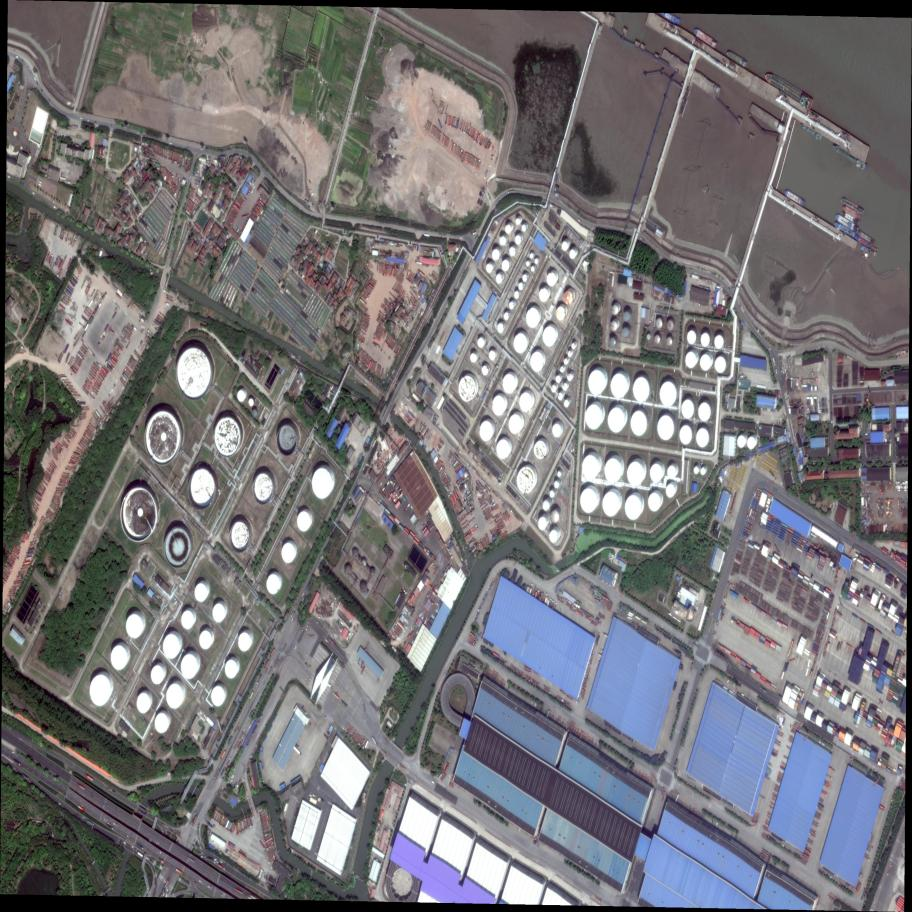large-vehicle: (237, 851, 248, 859), (187, 856, 196, 864), (264, 659, 270, 670), (332, 691, 340, 699), (329, 639, 337, 647), (235, 888, 244, 895), (175, 869, 184, 876), (220, 767, 226, 777), (248, 691, 254, 701), (220, 750, 226, 760), (227, 736, 233, 746), (228, 841, 236, 848), (237, 740, 243, 749), (270, 647, 275, 657), (192, 815, 197, 825), (227, 844, 234, 850), (206, 858, 215, 862)
ship: (761, 70, 816, 110), (830, 142, 869, 171), (691, 26, 721, 51), (724, 49, 750, 69), (839, 197, 866, 216), (782, 188, 807, 208), (832, 220, 858, 239), (799, 122, 823, 141), (658, 8, 683, 26), (856, 229, 877, 246), (841, 204, 863, 220), (840, 210, 861, 226), (854, 234, 871, 248)
storage-tank: (120, 486, 158, 542), (145, 412, 180, 464), (176, 347, 211, 398), (187, 469, 216, 509), (165, 525, 191, 568), (214, 417, 240, 457), (311, 467, 333, 499), (277, 424, 298, 457), (229, 521, 251, 552), (252, 472, 273, 504), (90, 676, 111, 707), (833, 212, 861, 234), (517, 466, 535, 494), (458, 376, 476, 403), (163, 633, 180, 660), (588, 370, 605, 396), (660, 381, 677, 407), (604, 459, 622, 483), (582, 455, 599, 480), (580, 488, 597, 513), (658, 415, 674, 441), (608, 407, 624, 433), (633, 377, 649, 403), (111, 646, 128, 670), (126, 615, 143, 639), (181, 655, 198, 679), (167, 683, 183, 708), (631, 411, 647, 436), (586, 405, 602, 429), (627, 462, 643, 486), (625, 496, 641, 520), (603, 492, 619, 516), (611, 374, 627, 398), (492, 395, 506, 417), (281, 542, 295, 564), (266, 574, 280, 596), (526, 307, 540, 328), (137, 693, 151, 714), (502, 373, 516, 394), (212, 602, 226, 623), (212, 685, 225, 707), (479, 421, 493, 441), (531, 352, 544, 373), (543, 326, 556, 347), (509, 414, 522, 435), (297, 511, 310, 532), (238, 632, 251, 653), (534, 441, 548, 460), (519, 393, 533, 412), (514, 333, 527, 353), (497, 439, 510, 459), (155, 713, 168, 733), (199, 630, 212, 650), (225, 659, 238, 679), (195, 582, 208, 602), (696, 428, 709, 448), (679, 425, 692, 445), (648, 492, 661, 512), (181, 611, 194, 630), (151, 666, 164, 685), (698, 403, 711, 422), (650, 464, 663, 482), (682, 400, 694, 419), (700, 354, 711, 371), (686, 351, 696, 369), (715, 357, 726, 373), (563, 290, 573, 305), (700, 332, 710, 347), (550, 510, 560, 524), (552, 424, 562, 438), (539, 288, 549, 302), (714, 335, 724, 349), (538, 516, 547, 531), (556, 306, 565, 321), (547, 272, 556, 286), (687, 330, 696, 344), (666, 484, 675, 498), (667, 465, 676, 479), (549, 530, 558, 543), (747, 437, 756, 449), (737, 436, 746, 448), (492, 248, 500, 261), (237, 390, 245, 403), (502, 260, 510, 272), (477, 338, 485, 349), (496, 273, 503, 285), (543, 500, 550, 512), (489, 350, 496, 362), (667, 319, 674, 331), (505, 223, 512, 234), (509, 246, 516, 257), (497, 323, 504, 334), (656, 318, 663, 329), (609, 337, 616, 348), (515, 234, 522, 244), (486, 263, 493, 273), (482, 365, 489, 375), (470, 353, 477, 363), (622, 327, 629, 337), (611, 321, 618, 331), (569, 249, 576, 259), (500, 235, 506, 246), (654, 335, 661, 344), (624, 311, 630, 321), (612, 305, 618, 315), (562, 241, 568, 251), (666, 336, 672, 346), (521, 224, 527, 233), (549, 490, 555, 498), (555, 375, 561, 383), (562, 383, 568, 391), (554, 481, 559, 490), (504, 312, 509, 321), (564, 399, 569, 408), (514, 290, 519, 299), (509, 301, 514, 310), (252, 409, 257, 418), (249, 398, 254, 407), (693, 467, 699, 474), (557, 470, 562, 478), (558, 392, 563, 400), (567, 374, 572, 382), (516, 217, 520, 226), (522, 275, 527, 282), (518, 283, 523, 290), (551, 385, 556, 392), (700, 468, 705, 475), (571, 343, 576, 350), (560, 366, 564, 373), (568, 351, 572, 358), (564, 358, 568, 365), (647, 333, 651, 340), (535, 258, 539, 264), (530, 253, 534, 259), (526, 261, 530, 267), (531, 266, 534, 272)
